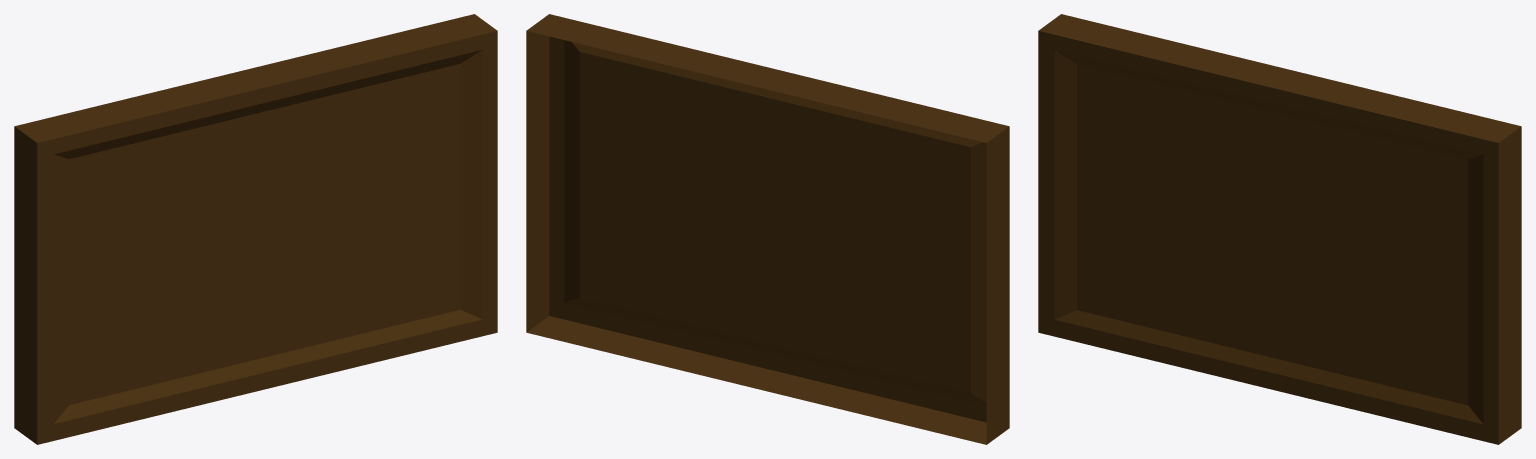
File: CuadroGrande.fbx
3 renders of one model, left to right at view 1: azimuth 30°, elevation 25°; view 2: azimuth 150°, elevation 25°; view 3: azimuth 330°, elevation 25°, orthographic.
Visible parts, largest first — view 1: Cuadro; view 2: Cuadro; view 3: Cuadro.
Boxes of the visible parts, box(x1,y1,x2,y2) form: Cuadro: box(14, 14, 497, 444); Cuadro: box(526, 14, 1009, 444); Cuadro: box(1038, 14, 1521, 444).
Size of the model in its own units: 1.95 by 1.22 by 0.1688.
